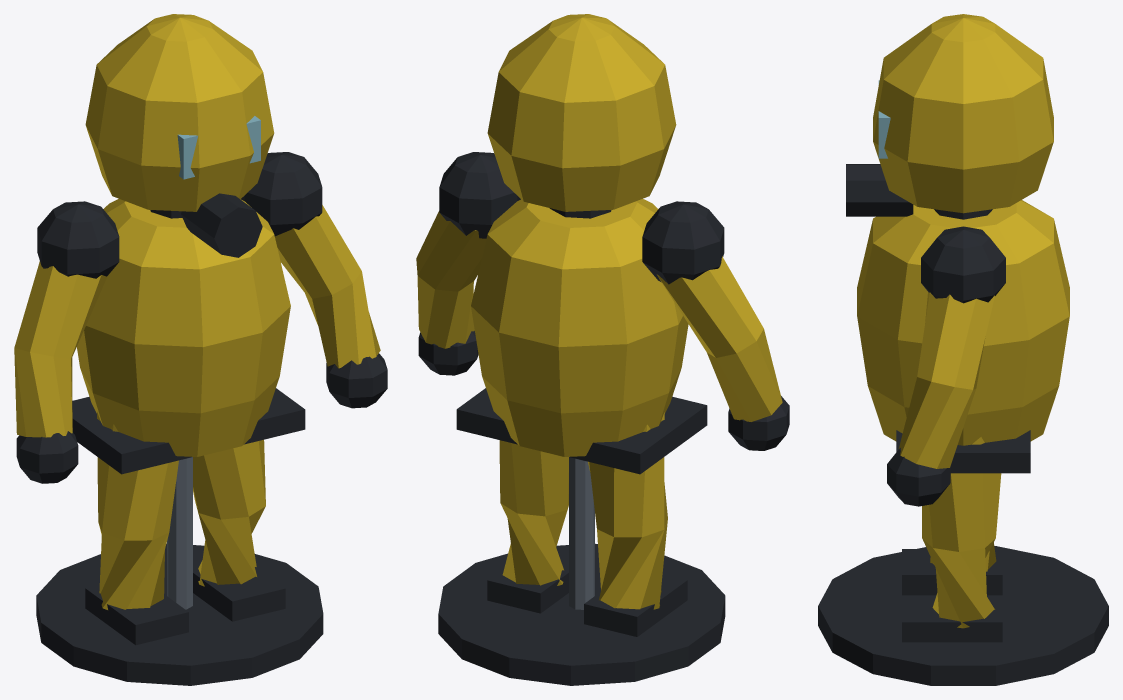
File: hazard-suit.glb
3 renders of one model, left to right at view 1: azimuth 30°, elevation 25°; view 2: azimuth 150°, elevation 25°; view 3: azimuth 270°, elevation 25°, orthographic.
Parts seen in each view (by area): view 1: m; view 2: m; view 3: m.
Part boxes in pixels (x1,y1,x2,y2): m: (14, 14, 387, 685); m: (416, 14, 789, 685); m: (818, 14, 1108, 685).
Bounding box in the file's own units: 0.352 × 0.56 × 0.2426.
